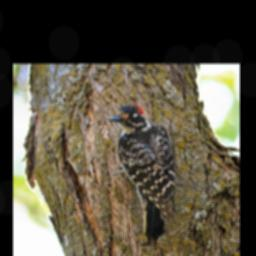Woodpecker: (108, 102, 171, 247)
